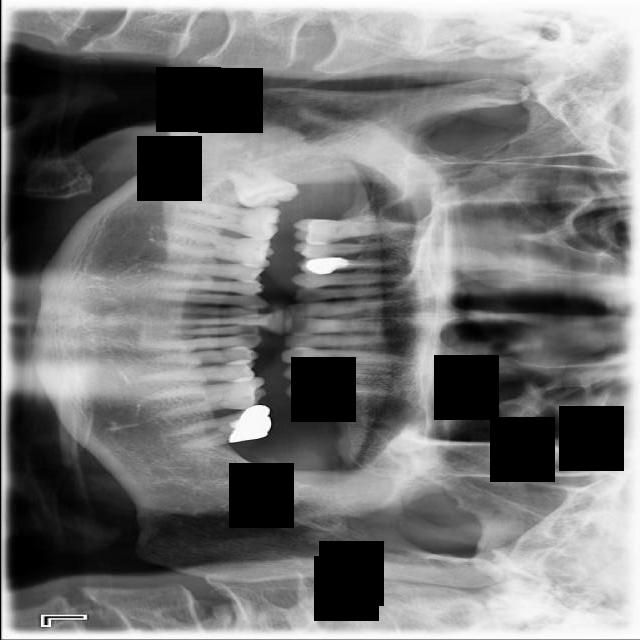52: (219, 401, 277, 449), (281, 359, 337, 382), (284, 379, 340, 401), (296, 256, 353, 275)
73: (333, 362, 398, 380), (338, 381, 395, 399), (348, 259, 403, 270), (114, 586, 118, 592)
Blue Sky Bio Implant: (167, 401, 277, 463)
Implant: (176, 200, 281, 241)
Keystone Dental Implant: (223, 146, 301, 221)
